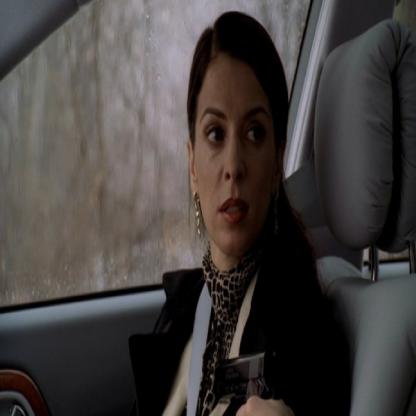Guns: (211, 346, 292, 414)
